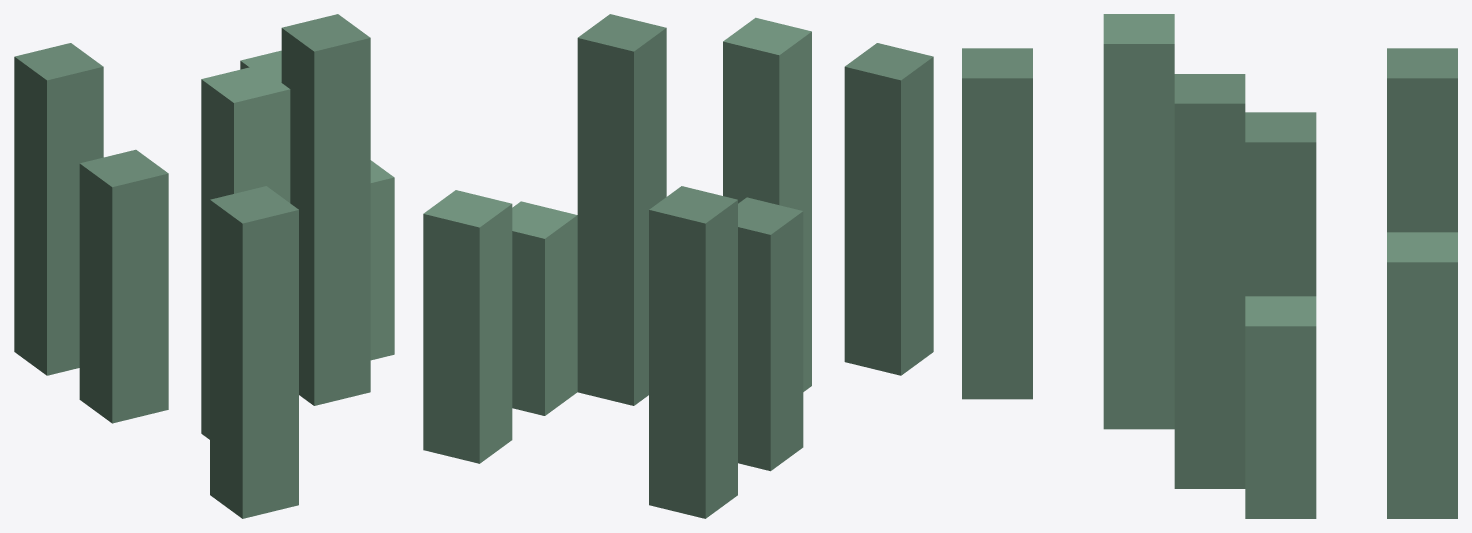
File: algas_varadas_04.glb
3 views of the same model, side by side, from view 1: azimuth 30°, elevation 25°; view 2: azimuth 150°, elevation 25°; view 3: azimuth 270°, elevation 25° (orthographic). The views are drawn at different scales.
Parts seen in each view (by area): view 1: algas_varadas_04; view 2: algas_varadas_04; view 3: algas_varadas_04.
Boxes of the visible parts, <box> form: algas_varadas_04: <box>14,14,394,518</box>; algas_varadas_04: <box>423,14,933,518</box>; algas_varadas_04: <box>962,14,1457,518</box>.
Bounding box in the file's own units: 0.5 × 0.6 × 0.7.
